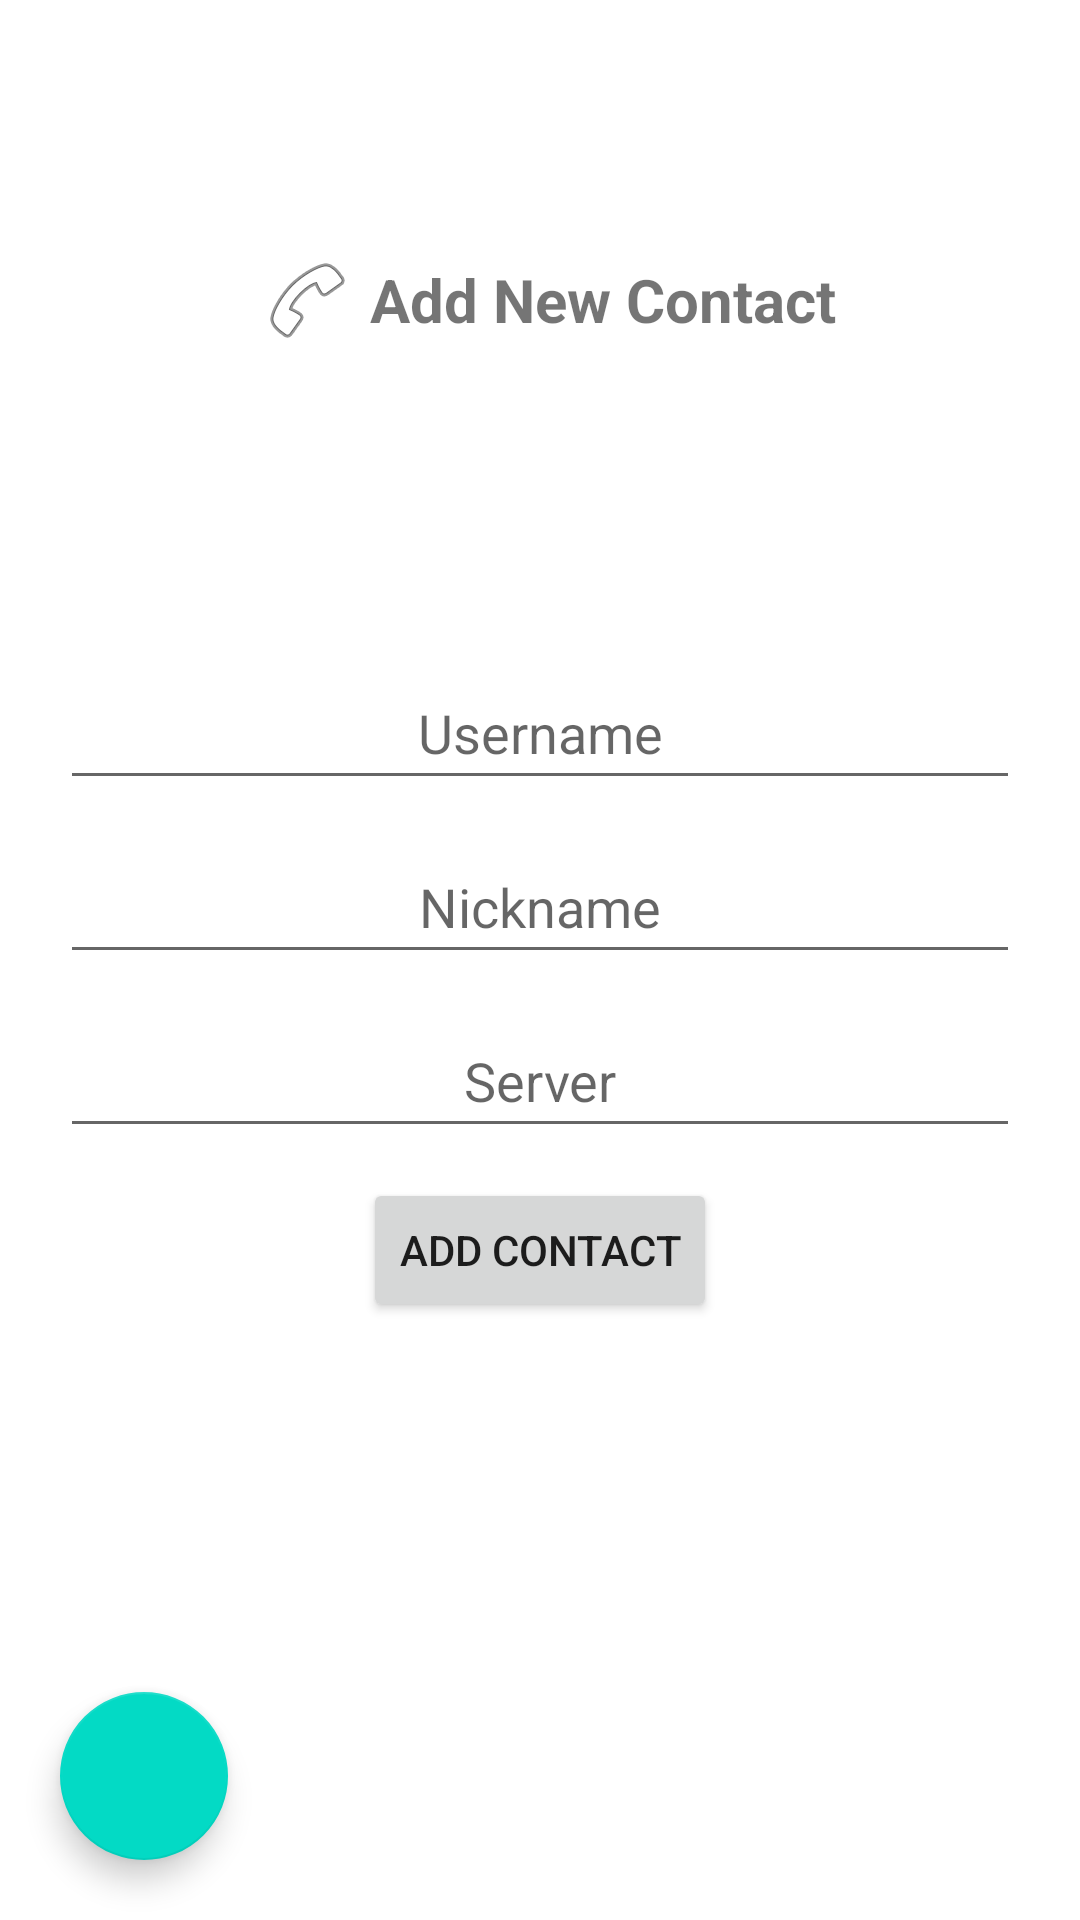

Screen size 1080*1920. Icon name, then its center in pixels as (x,y):
call: (307,300)
